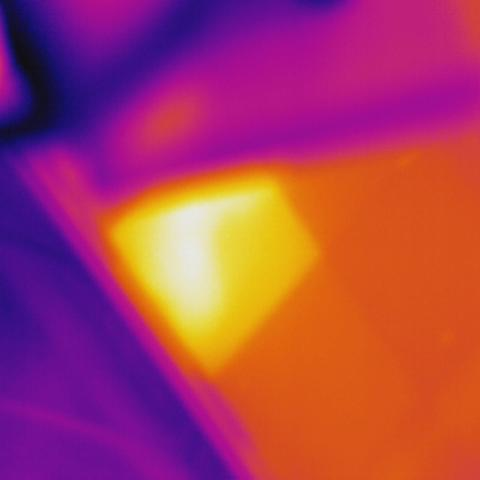fault: (127, 162, 312, 352)
